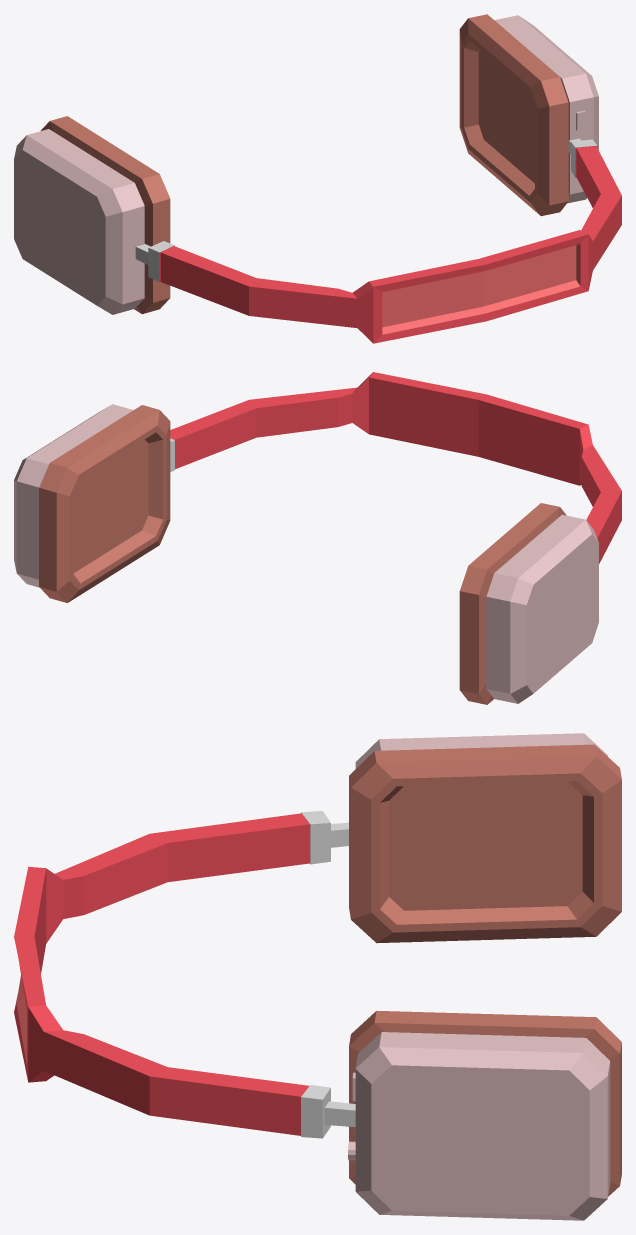
File: cap4_headSet.fbx
The picture shows the model from 3 angles, top to bottom: view 1: azimuth 30°, elevation 25°; view 2: azimuth 150°, elevation 25°; view 3: azimuth 270°, elevation 25°; orthographic projection. The views are drawn at different scales.
Visible parts, largest first — view 1: Cube.015, Circle.002; view 2: Cube.015, Circle.002; view 3: Cube.015, Circle.002.
Boxes of the visible parts, x1=… form: Cube.015: x1=14, y1=14, x2=598, y2=314; Circle.002: x1=135, y1=138, x2=621, y2=343; Cube.015: x1=14, y1=404, x2=598, y2=704; Circle.002: x1=170, y1=372, x2=621, y2=563; Cube.015: x1=349, y1=733, x2=621, y2=1220; Circle.002: x1=14, y1=811, x2=355, y2=1138.
Bounding box in the file's own units: 87.72 × 22.12 × 67.59.
